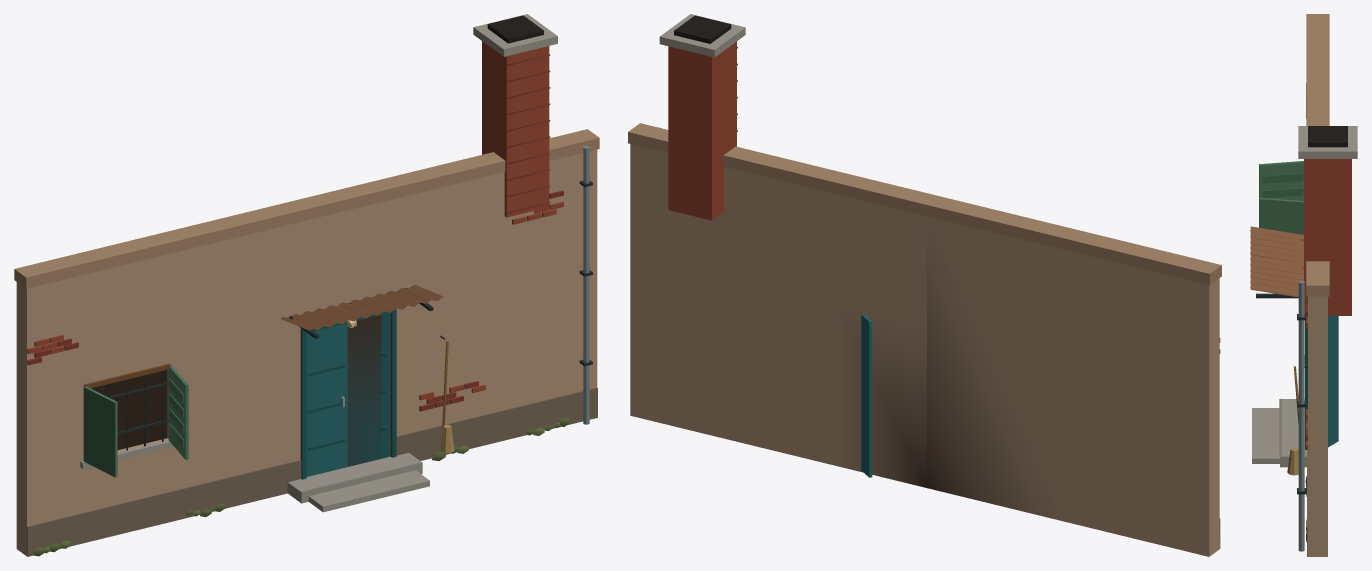
The model's file is mat_sau_lo.glb.
The picture shows the model from 3 angles, left to right: view 1: azimuth 30°, elevation 25°; view 2: azimuth 150°, elevation 25°; view 3: azimuth 270°, elevation 25°; orthographic projection. The views are drawn at different scales.
Visible parts, largest first — view 1: mat_sau_lo; view 2: mat_sau_lo; view 3: mat_sau_lo.
Part boxes in pixels (left/top/right/bottom): mat_sau_lo: left=14, top=14, right=599, bottom=556; mat_sau_lo: left=628, top=14, right=1221, bottom=556; mat_sau_lo: left=1250, top=14, right=1357, bottom=556.
Size of the model in its own units: 8.04 by 5.43 by 1.34.
